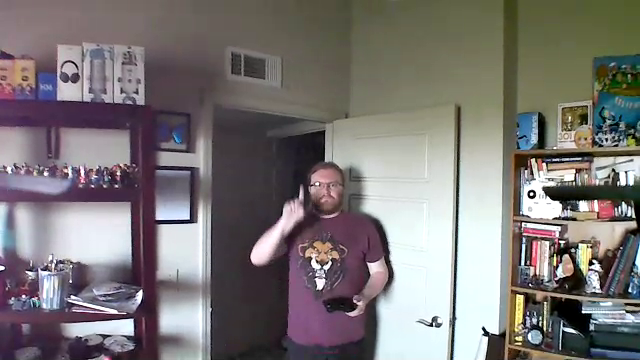up: (277, 180, 307, 228)
